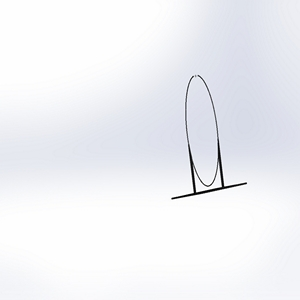circle: (169, 71, 249, 198)
